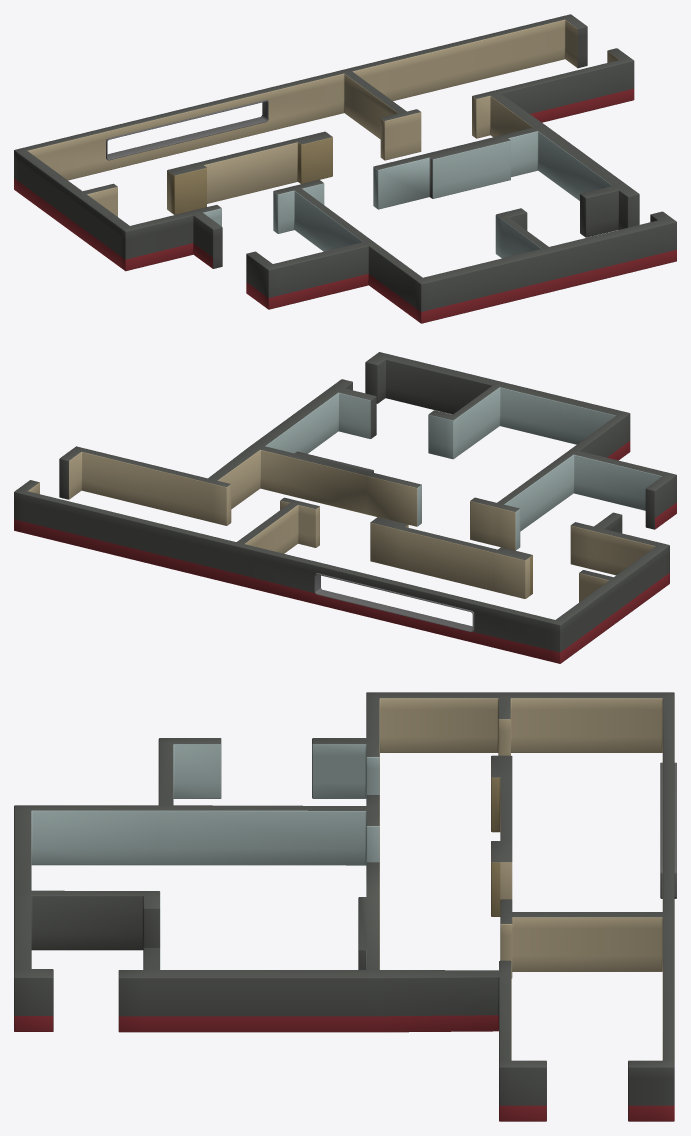
File: admin_walls.fbx
3 renders of one model, top to bottom at view 1: azimuth 30°, elevation 25°; view 2: azimuth 150°, elevation 25°; view 3: azimuth 270°, elevation 25°, orthographic. The views are drawn at different scales.
Parts seen in each view (by area): view 1: Admin; view 2: Admin; view 3: Admin.
Boxes of the visible parts, box(x1,y1,x2,y2) form: Admin: box(14, 14, 676, 323); Admin: box(14, 352, 676, 663); Admin: box(14, 692, 676, 1121).
Size of the model in its own units: 4376 by 300 by 3268.
